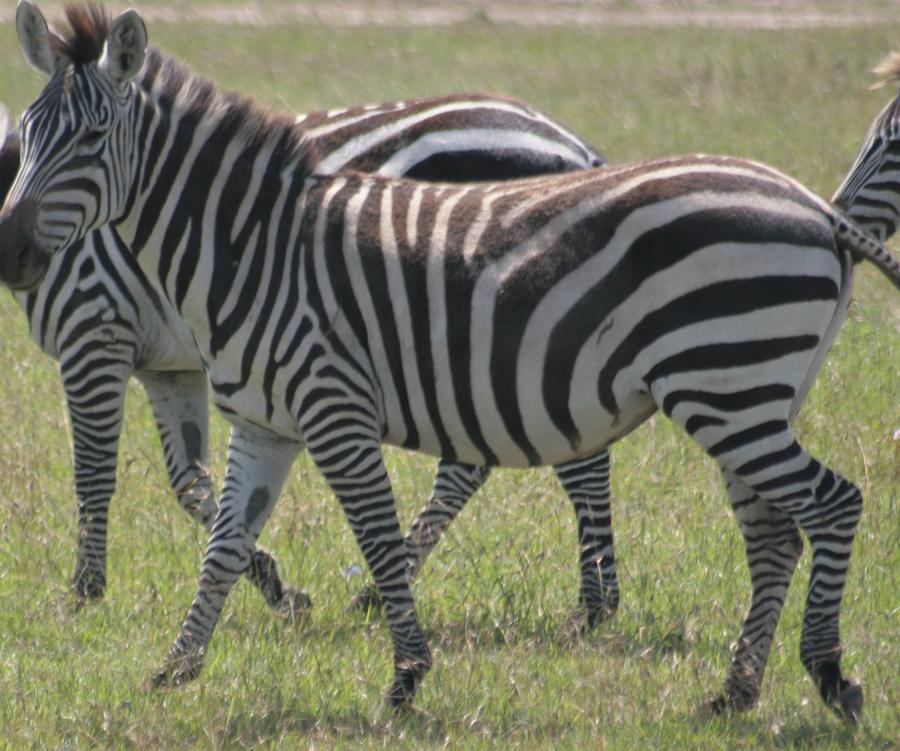zebra_plains: (233, 151, 829, 472)
